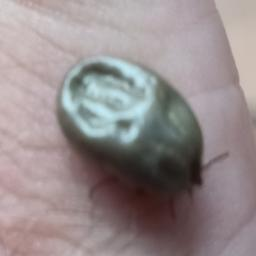Rhipicephalus sanguineus: (56, 54, 229, 220)
